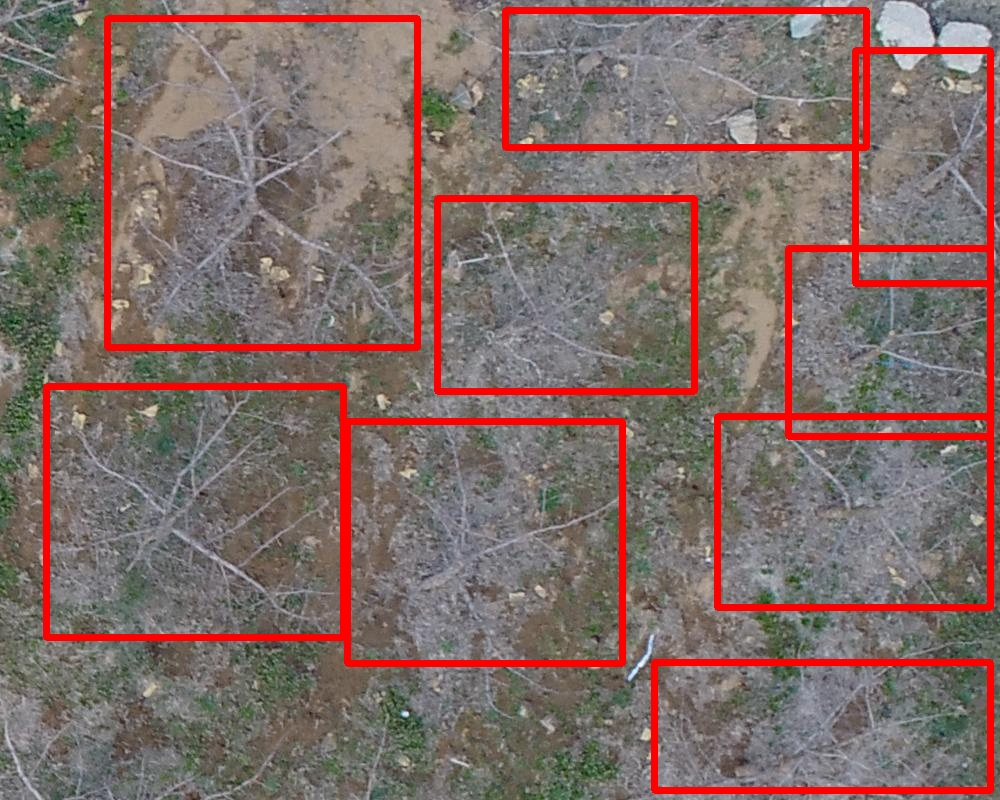apple: (107, 18, 417, 347), (46, 386, 343, 637), (347, 421, 622, 663), (717, 416, 990, 607), (437, 198, 694, 391), (505, 10, 866, 147), (654, 662, 990, 790), (788, 248, 990, 436), (855, 50, 990, 283)
